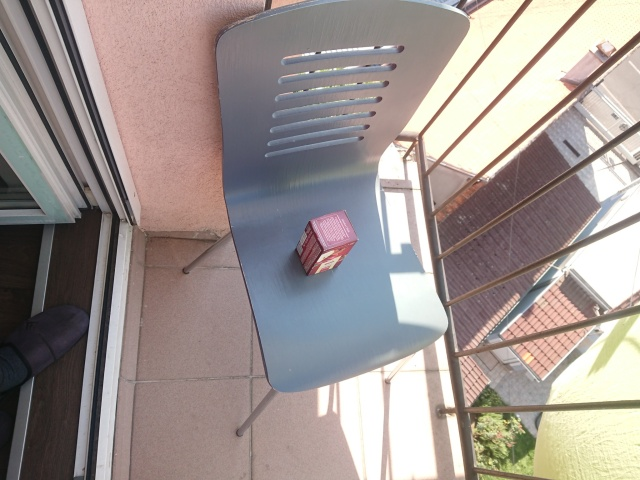Franck Apple Cinnamon Tea 60g: (293, 207, 359, 277)
